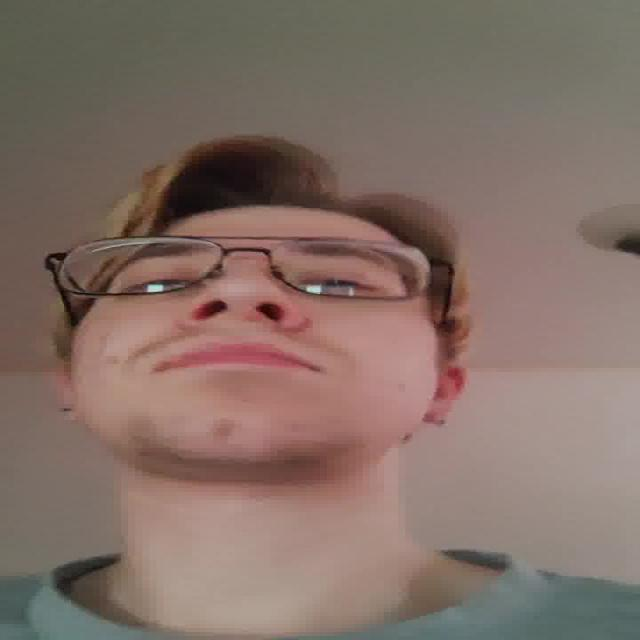earlobe: (422, 410, 454, 427), (62, 402, 84, 422)
eye: (300, 274, 382, 294), (120, 274, 200, 292)
nose: (182, 310, 294, 350)
wholeear: (422, 356, 472, 428)
